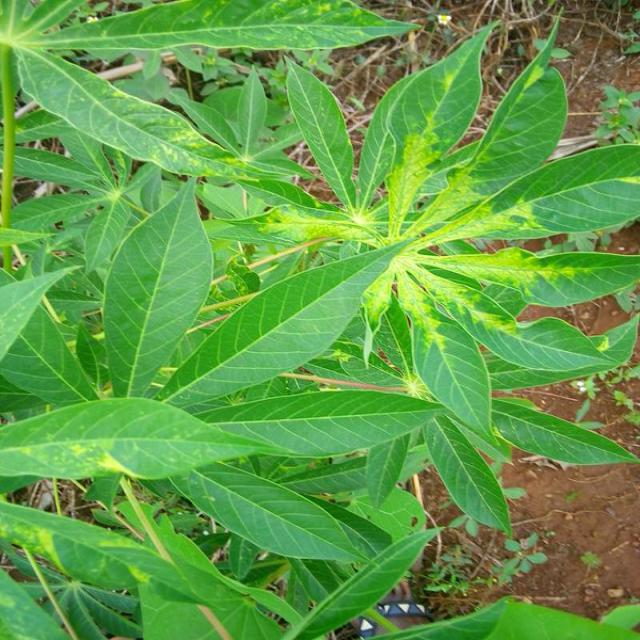cassava leaf: (2, 3, 640, 636), (102, 174, 216, 399)
